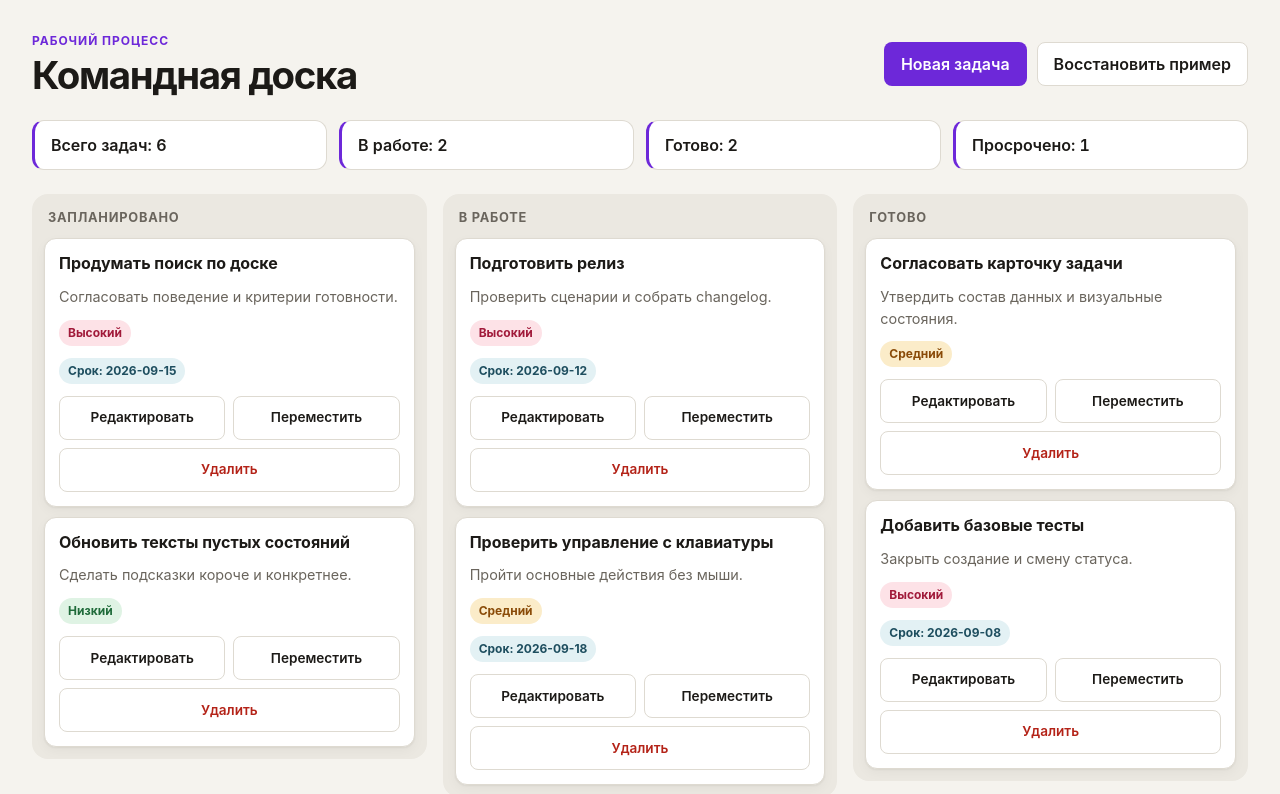
Test: App › overdue counter › updates after moving tasks
Expected: the text "Просрочено: 1" is shown, [953,120,1248,170]
Click the button with aria-label "Переместить: Подготовить релиз". click: (727, 418)
box: [644,396,810,440]
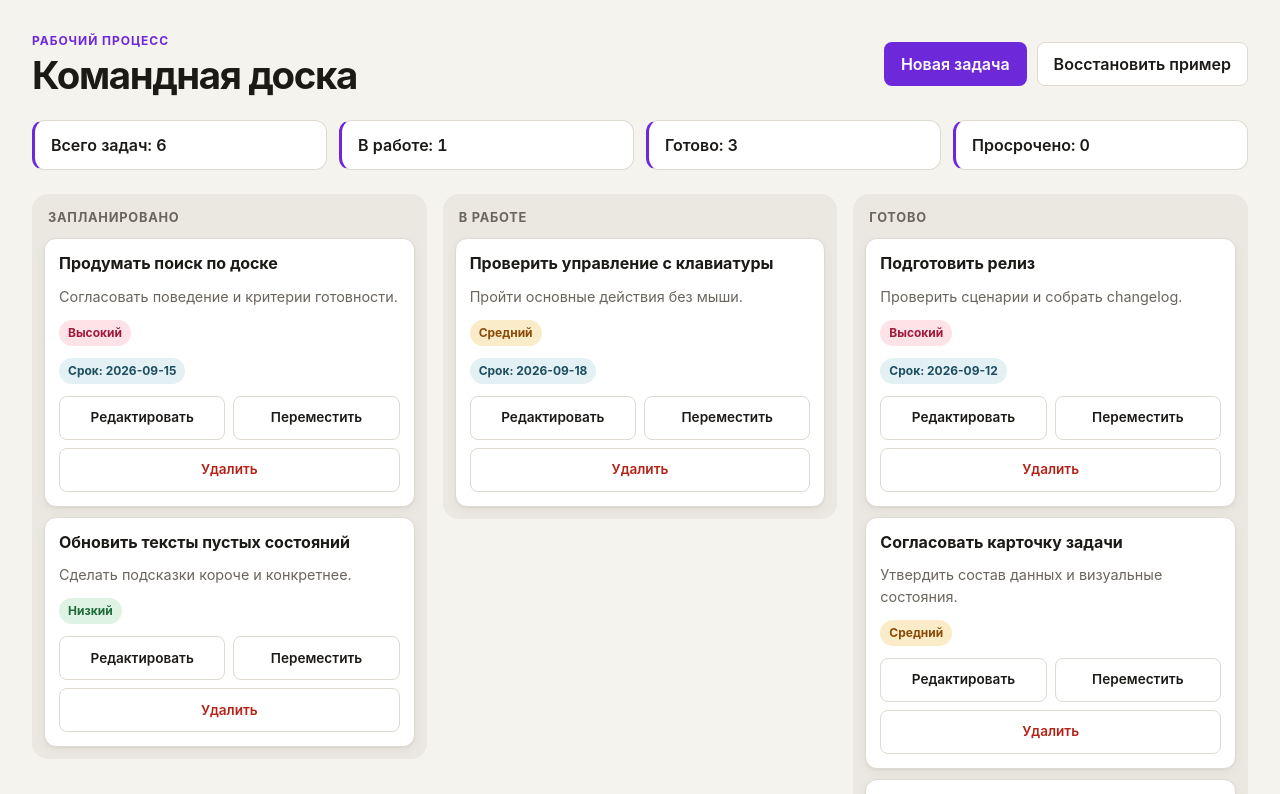
Expected: the text "Просрочено: 0" is shown, [953,120,1248,170]
Click the button with aria-label "Переместить: Подготовить релиз". click: (1138, 418)
box: [1055,396,1221,440]
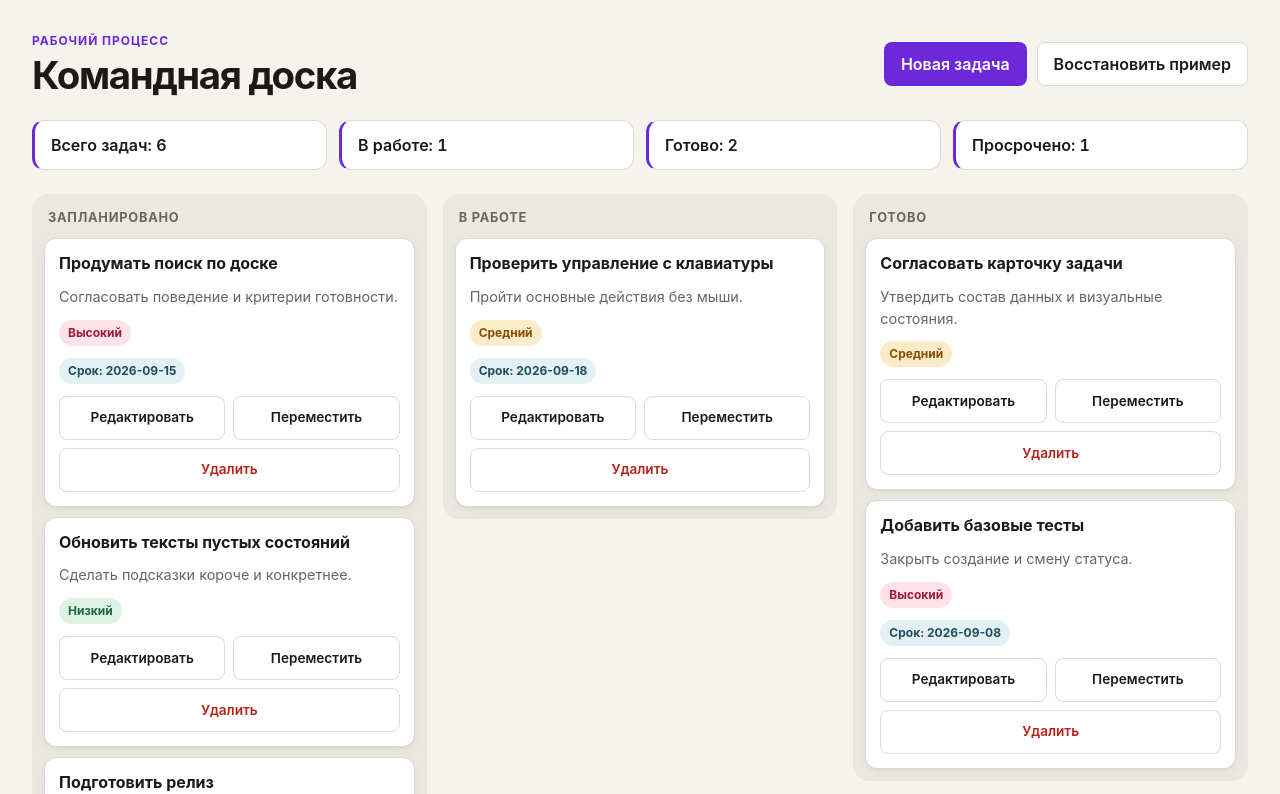
Expected: the text "Просрочено: 1" is shown, [953,120,1248,170]
